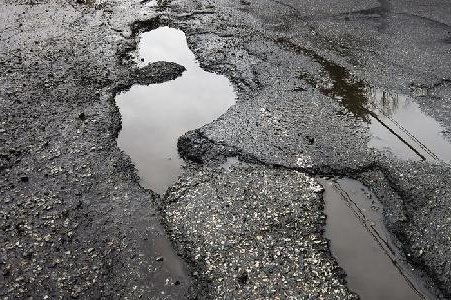pothole: (106, 13, 243, 201), (297, 160, 451, 300)
